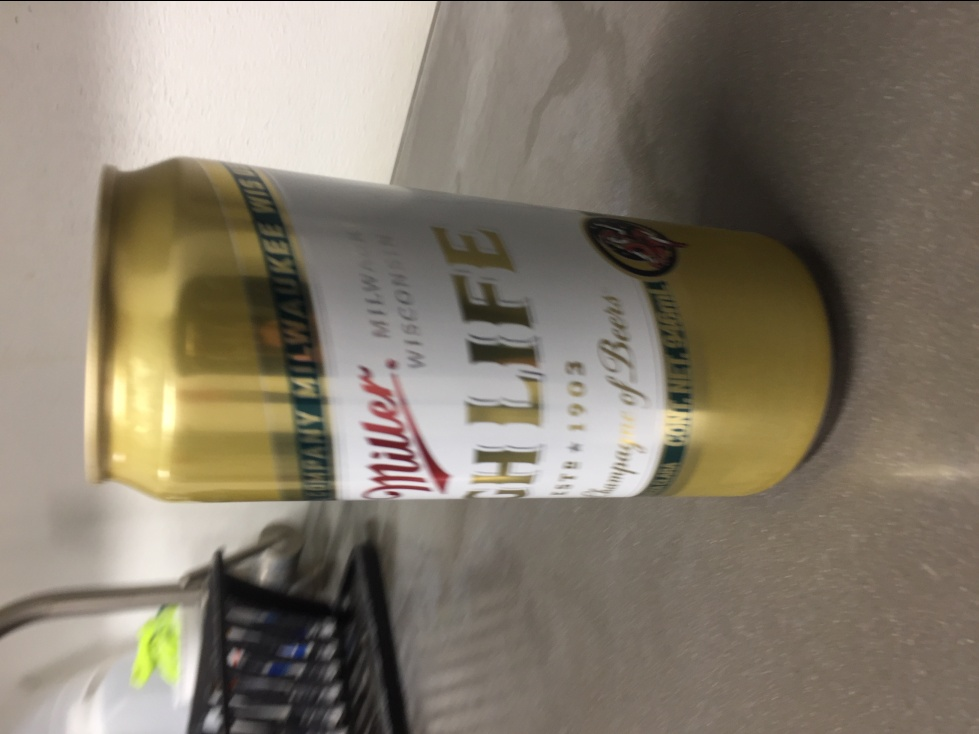miller: (84, 155, 836, 504)
